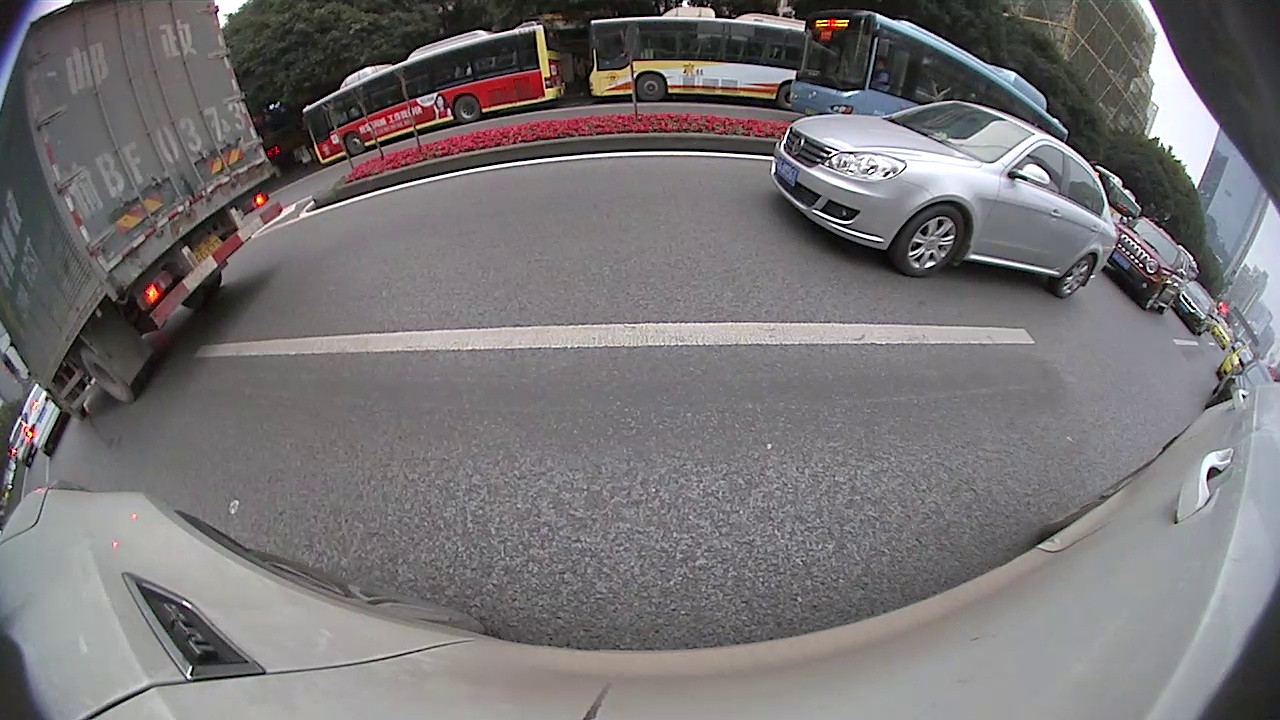bus: (788, 7, 1071, 143), (306, 21, 567, 168), (587, 9, 810, 107), (1088, 160, 1141, 227)
car: (772, 98, 1117, 303), (1106, 212, 1190, 316), (19, 387, 68, 458), (1174, 280, 1217, 333), (1217, 369, 1278, 401)
front: (891, 209, 967, 279), (79, 349, 135, 403), (633, 72, 665, 100), (344, 132, 365, 155)
rear: (1050, 256, 1094, 297), (453, 93, 483, 123)
truck: (0, 3, 278, 427)
